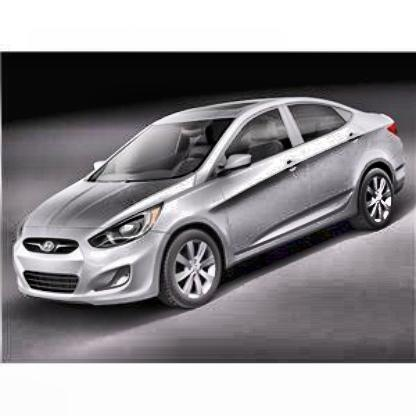Hyundai Accent Sedan 2012: (13, 95, 413, 315)
